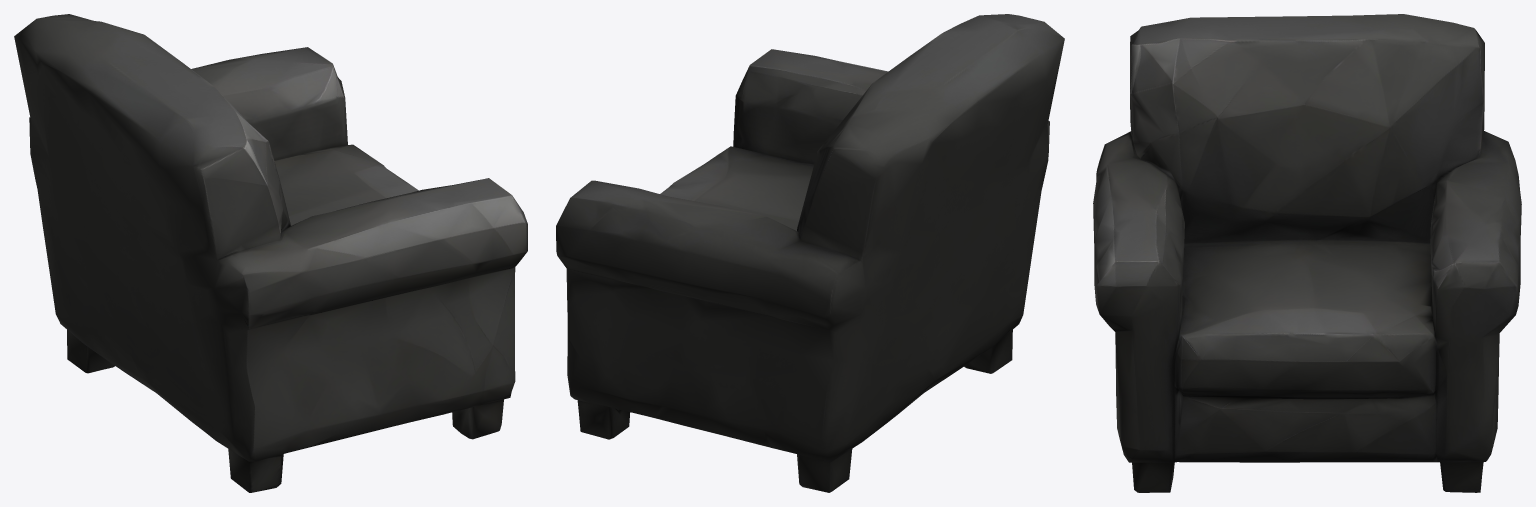
File: low+poly+chair+3d+model.glb
3 renders of one model, left to right at view 1: azimuth 30°, elevation 25°; view 2: azimuth 150°, elevation 25°; view 3: azimuth 270°, elevation 25°, orthographic. The views are drawn at different scales.
Parts seen in each view (by area): view 1: tripo_node_07962ed3-2319-4326-9bc8-45a8391706c0; view 2: tripo_node_07962ed3-2319-4326-9bc8-45a8391706c0; view 3: tripo_node_07962ed3-2319-4326-9bc8-45a8391706c0.
Boxes of the visible parts, x1,y1,x2,y2 form: tripo_node_07962ed3-2319-4326-9bc8-45a8391706c0: (14, 14, 527, 492); tripo_node_07962ed3-2319-4326-9bc8-45a8391706c0: (556, 14, 1064, 492); tripo_node_07962ed3-2319-4326-9bc8-45a8391706c0: (1093, 14, 1521, 492).
Bounding box in the file's own units: 0.8623 × 0.8929 × 1.
1 material, 1 textured.
